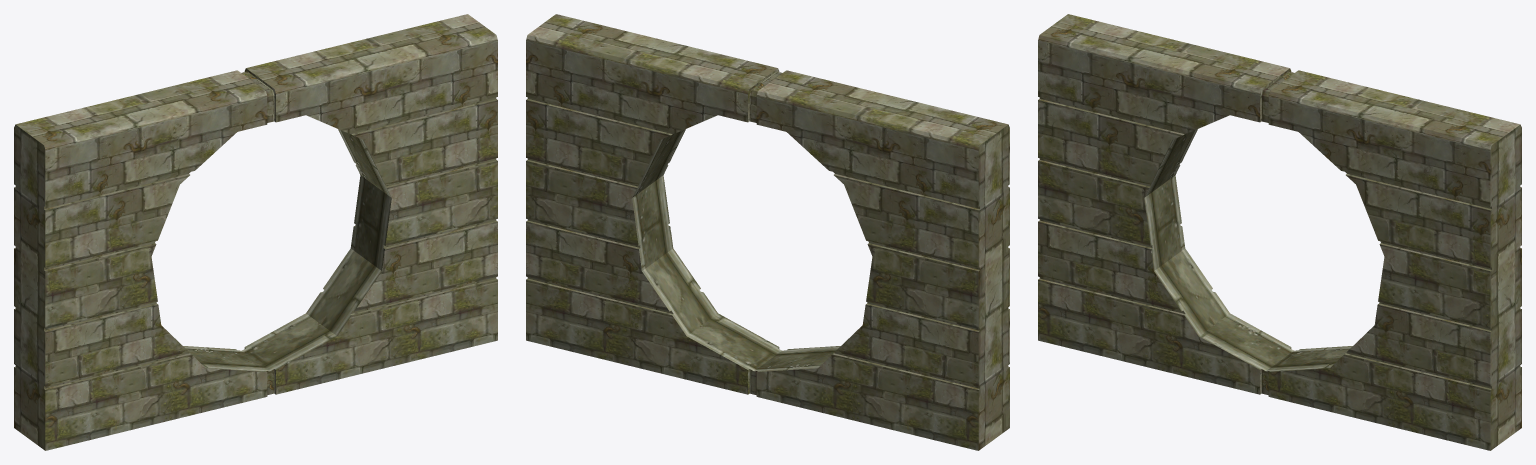
The model's file is wall-05.fbx.
3 views of the same model, side by side, from view 1: azimuth 30°, elevation 25°; view 2: azimuth 150°, elevation 25°; view 3: azimuth 330°, elevation 25° (orthographic).
Parts seen in each view (by area): view 1: Cube.170; view 2: Cube.170; view 3: Cube.170.
Part boxes in pixels (box(x1,y1,x2,y2)): Cube.170: box(14, 14, 497, 450); Cube.170: box(526, 14, 1009, 450); Cube.170: box(1038, 14, 1521, 450).
Size of the model in its own units: 3.73 by 2.4 by 0.448.
